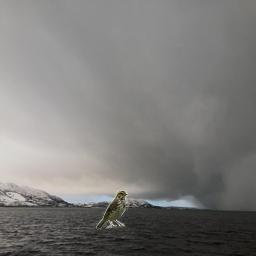Sparrow: (96, 190, 128, 230)
